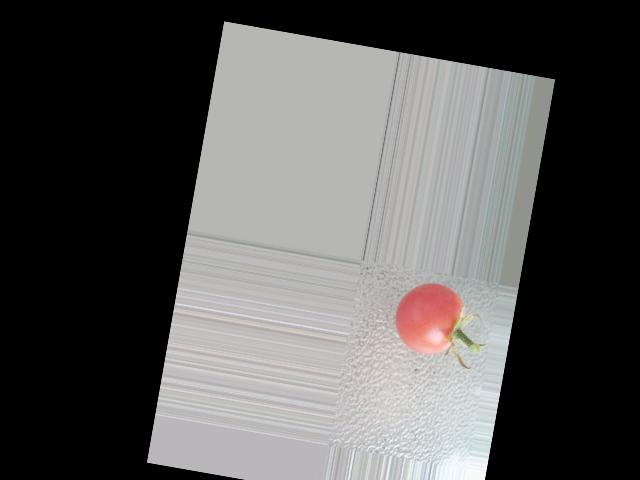tomato: (388, 278, 466, 360)
